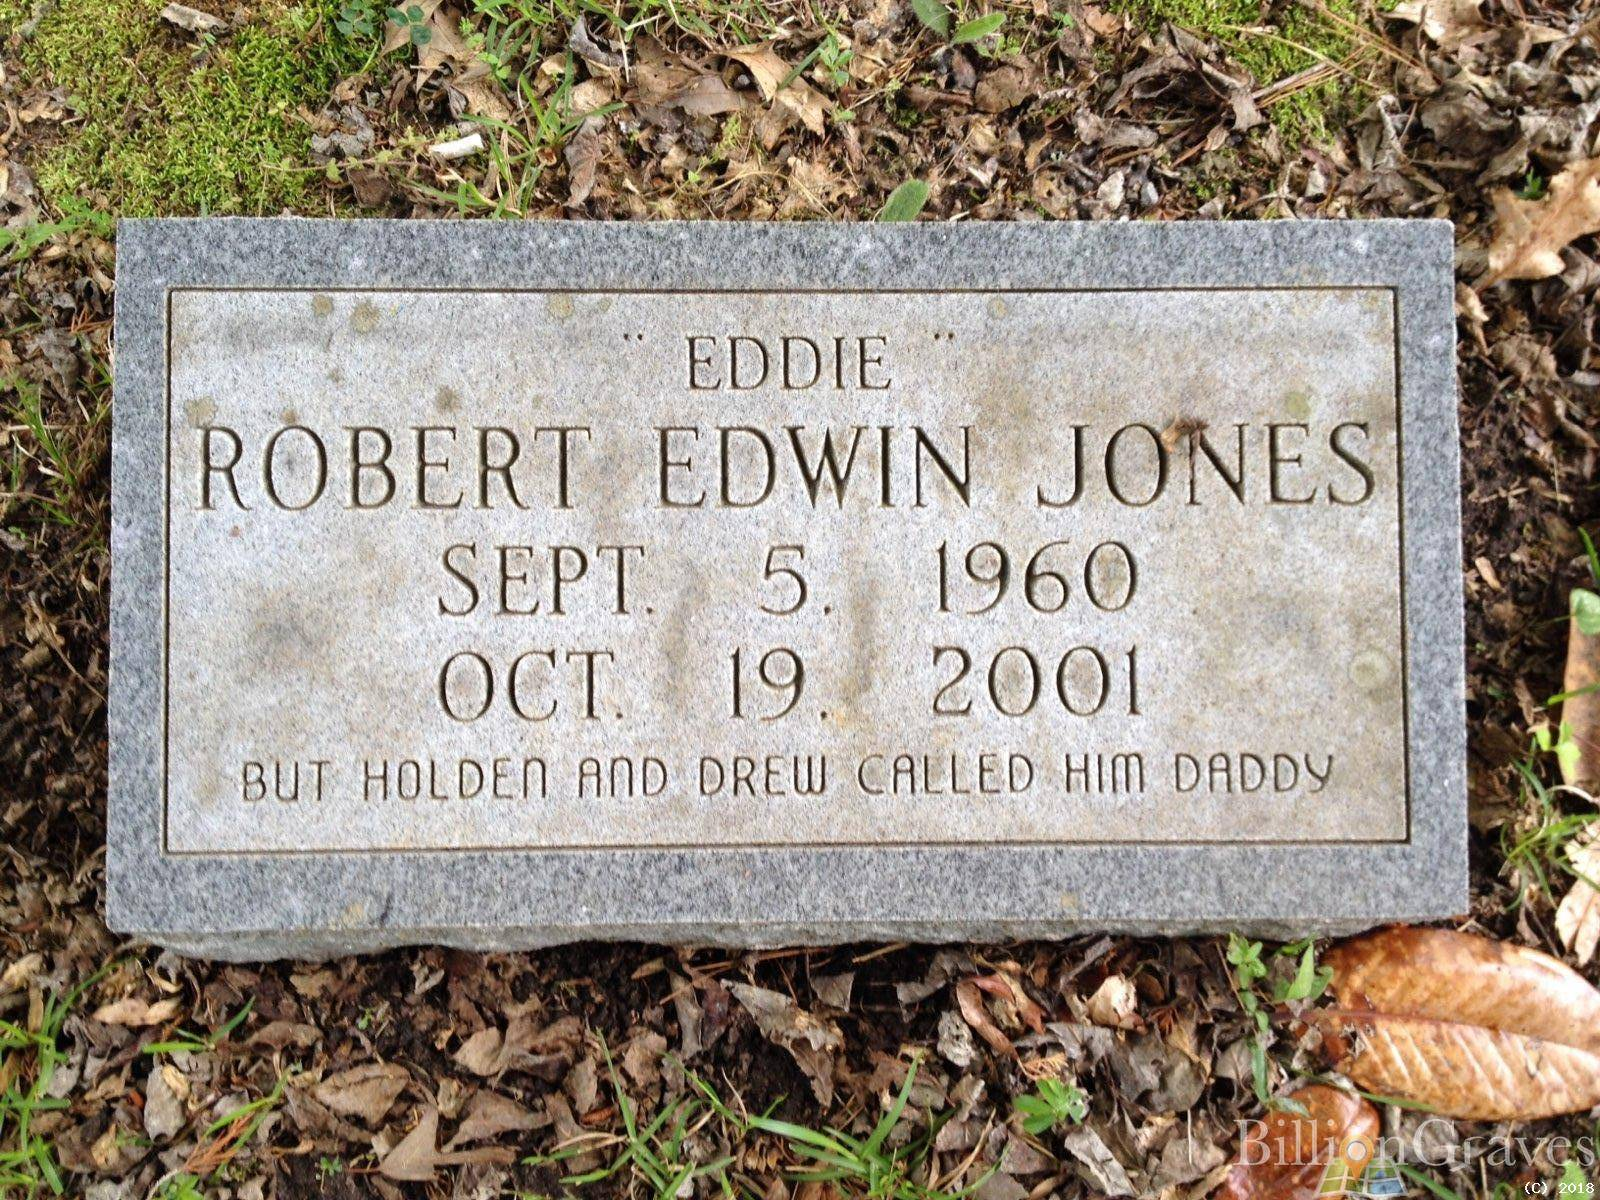flat: (91, 192, 1490, 969)
